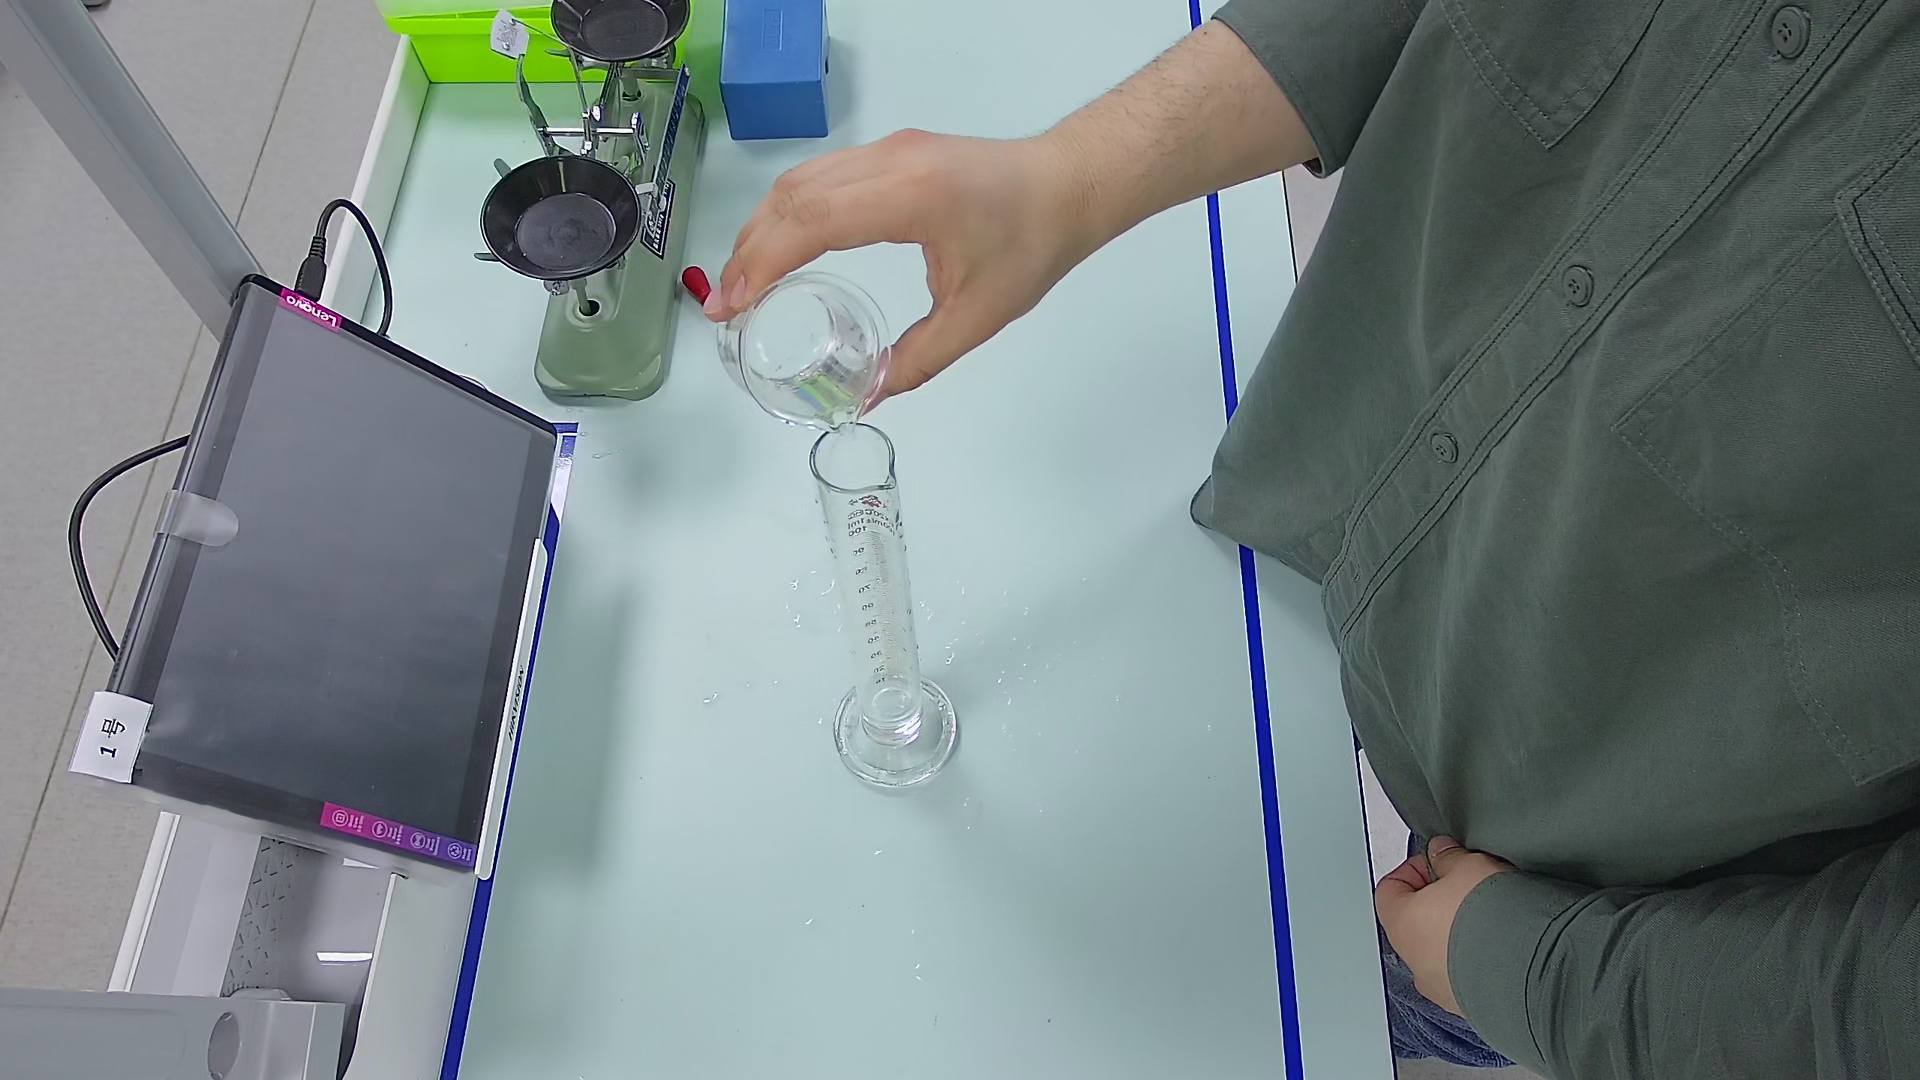ao: (857, 673, 916, 725)
bei: (709, 265, 899, 435)
diguantou: (680, 257, 712, 314)
hand: (705, 129, 1035, 372), (1361, 833, 1501, 1004)
liangdi: (833, 673, 955, 794)
liangtong: (803, 419, 955, 795)
tuo: (480, 158, 640, 285), (541, 1, 694, 55)
